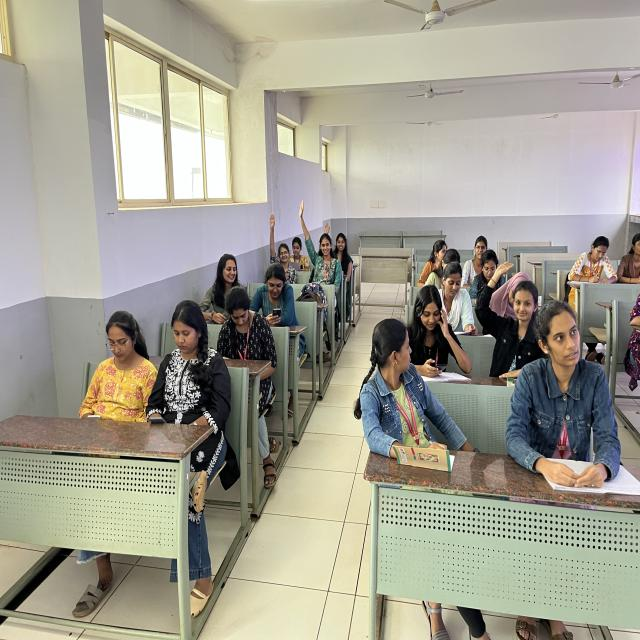Hand Rising: (477, 257, 522, 354), (296, 196, 332, 280), (263, 210, 293, 264)
Reading: (511, 291, 626, 488), (437, 263, 482, 340), (569, 231, 623, 291)
Using Phone: (144, 297, 232, 463), (78, 298, 150, 430), (404, 283, 470, 394), (251, 260, 301, 332)
Writing: (354, 319, 468, 496)
